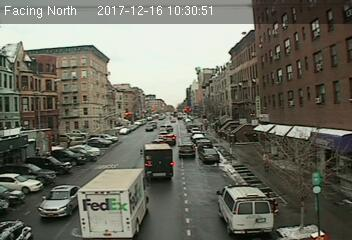car: (38, 185, 83, 218), (201, 148, 220, 163), (178, 143, 196, 157)
police: (215, 180, 274, 232)
truck: (76, 168, 152, 237)
ups: (138, 143, 175, 182)
